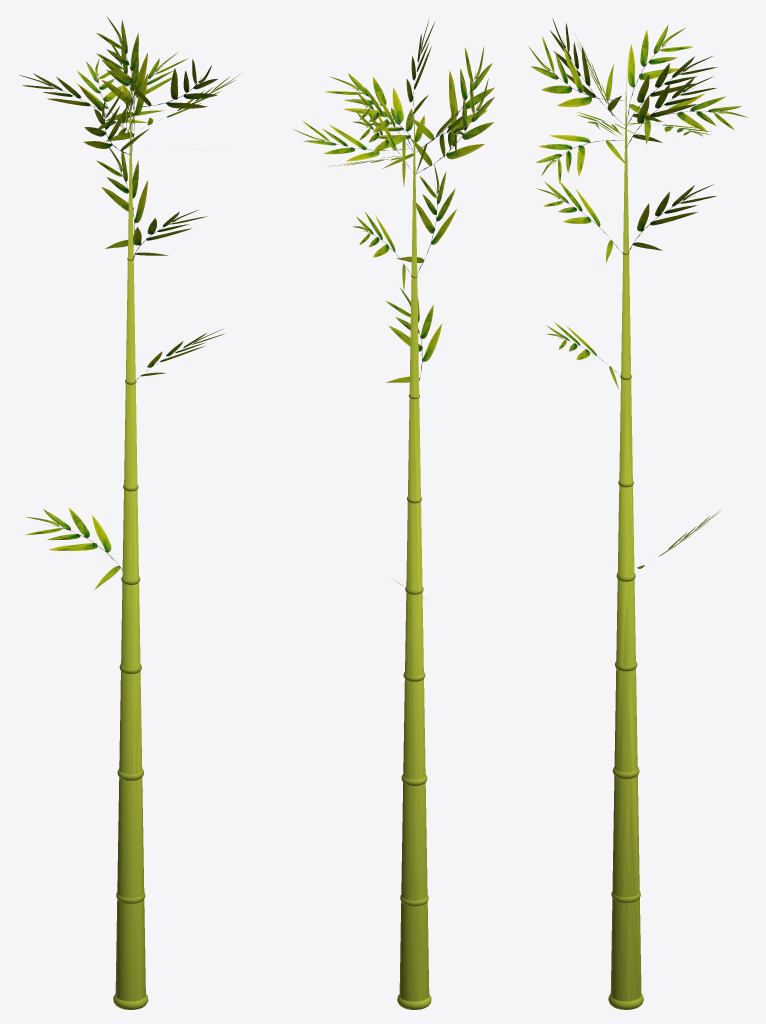
Rendered from bamboo_Vr2.fbx.
3 views of the same model, side by side, from view 1: azimuth 30°, elevation 25°; view 2: azimuth 150°, elevation 25°; view 3: azimuth 270°, elevation 25° (orthographic). The views are drawn at different scales.
Parts seen in each view (by area): view 1: bamboo4; view 2: bamboo4; view 3: bamboo4.
Boxes of the visible parts, left/top/right/bottom form: bamboo4: left=18, top=17, right=241, bottom=1009; bamboo4: left=293, top=18, right=494, bottom=1009; bamboo4: left=528, top=18, right=748, bottom=1009.
Bounding box in the file's own units: 2.14 × 10.5 × 2.19.
Materials: 2 (2 with a texture image).
